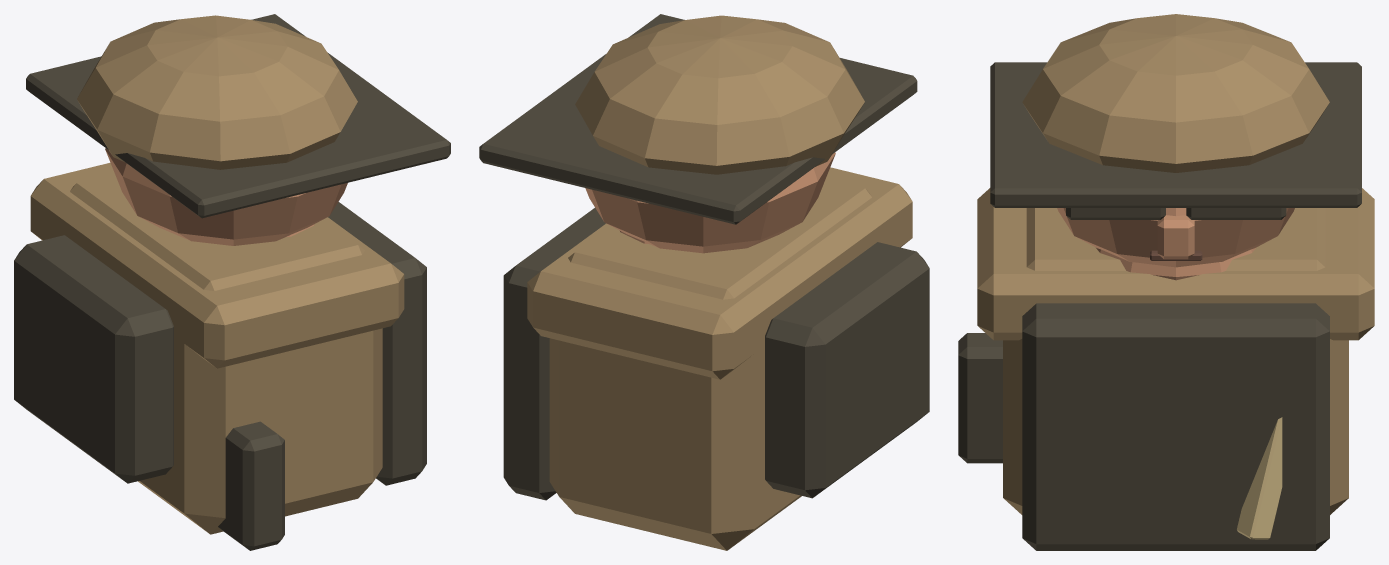
The model's file is frontier.signature.glb.
The picture shows the model from 3 angles, left to right: view 1: azimuth 30°, elevation 25°; view 2: azimuth 150°, elevation 25°; view 3: azimuth 270°, elevation 25°; orthographic projection. The views are drawn at different scales.
Parts seen in each view (by area): view 1: frontier_signature__main__torso, frontier_signature__main__head; view 2: frontier_signature__main__torso, frontier_signature__main__head; view 3: frontier_signature__main__torso, frontier_signature__main__head.
Boxes of the visible parts, bbox=[...] form: frontier_signature__main__torso: bbox=[14, 162, 426, 550]; frontier_signature__main__head: bbox=[26, 14, 450, 245]; frontier_signature__main__torso: bbox=[503, 167, 929, 550]; frontier_signature__main__head: bbox=[479, 14, 917, 253]; frontier_signature__main__torso: bbox=[958, 188, 1374, 550]; frontier_signature__main__head: bbox=[990, 14, 1361, 280].
Bounding box in the file's own units: 29.8 × 39 × 32.5.
